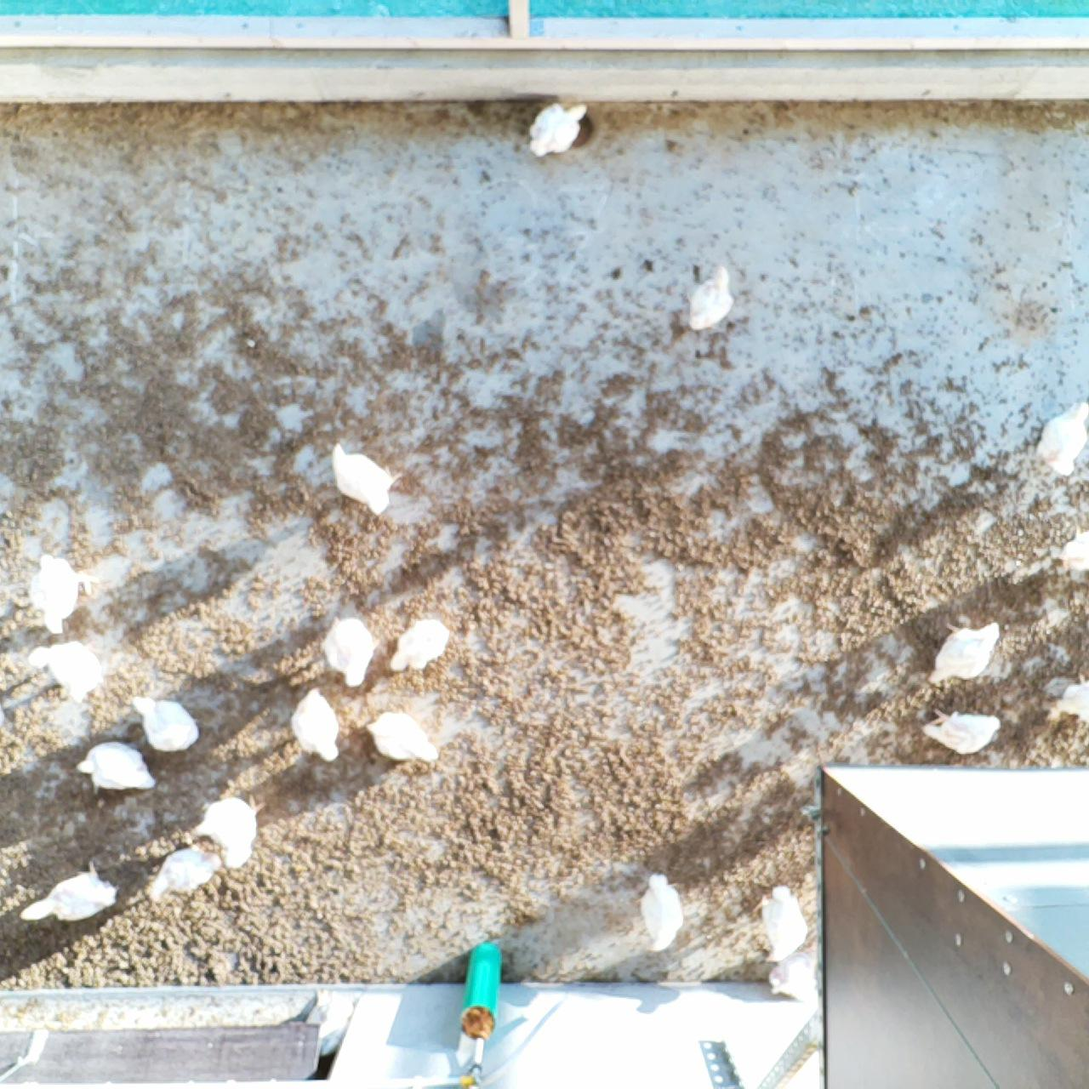chicken: (19, 861, 120, 926), (328, 437, 407, 519), (928, 615, 1007, 688), (192, 792, 264, 872), (30, 554, 97, 638), (125, 687, 206, 755), (25, 638, 114, 698), (1029, 396, 1089, 478), (73, 738, 158, 794), (367, 706, 445, 767), (146, 847, 224, 907), (525, 96, 595, 162), (322, 611, 381, 689), (918, 705, 1003, 757), (756, 879, 808, 964), (638, 868, 689, 954), (291, 686, 343, 767), (684, 262, 740, 337), (388, 611, 453, 672), (761, 940, 821, 1002), (1047, 669, 1089, 727), (1058, 522, 1089, 575)
